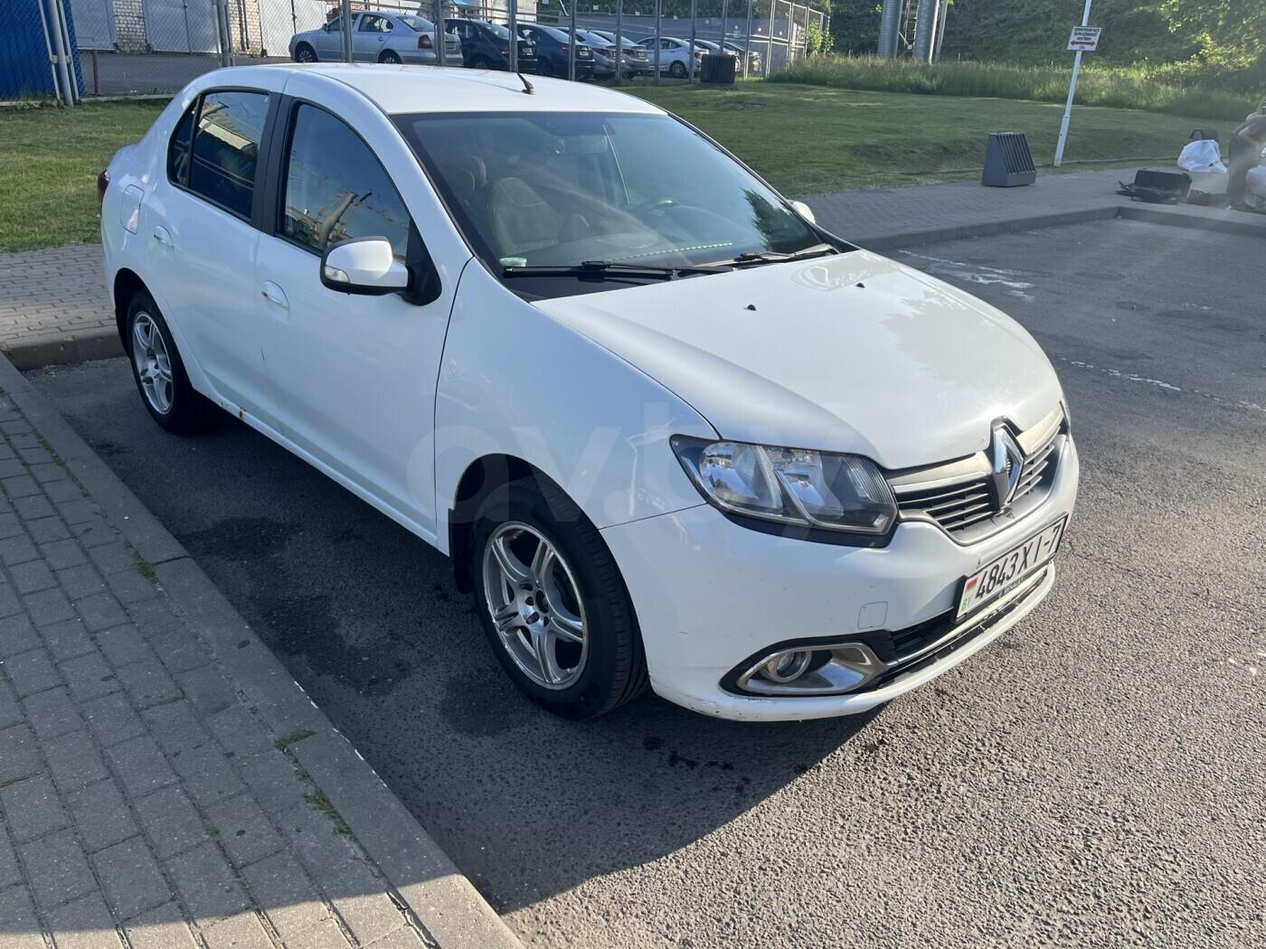Logan_2013-2018: (96, 53, 1093, 763)
